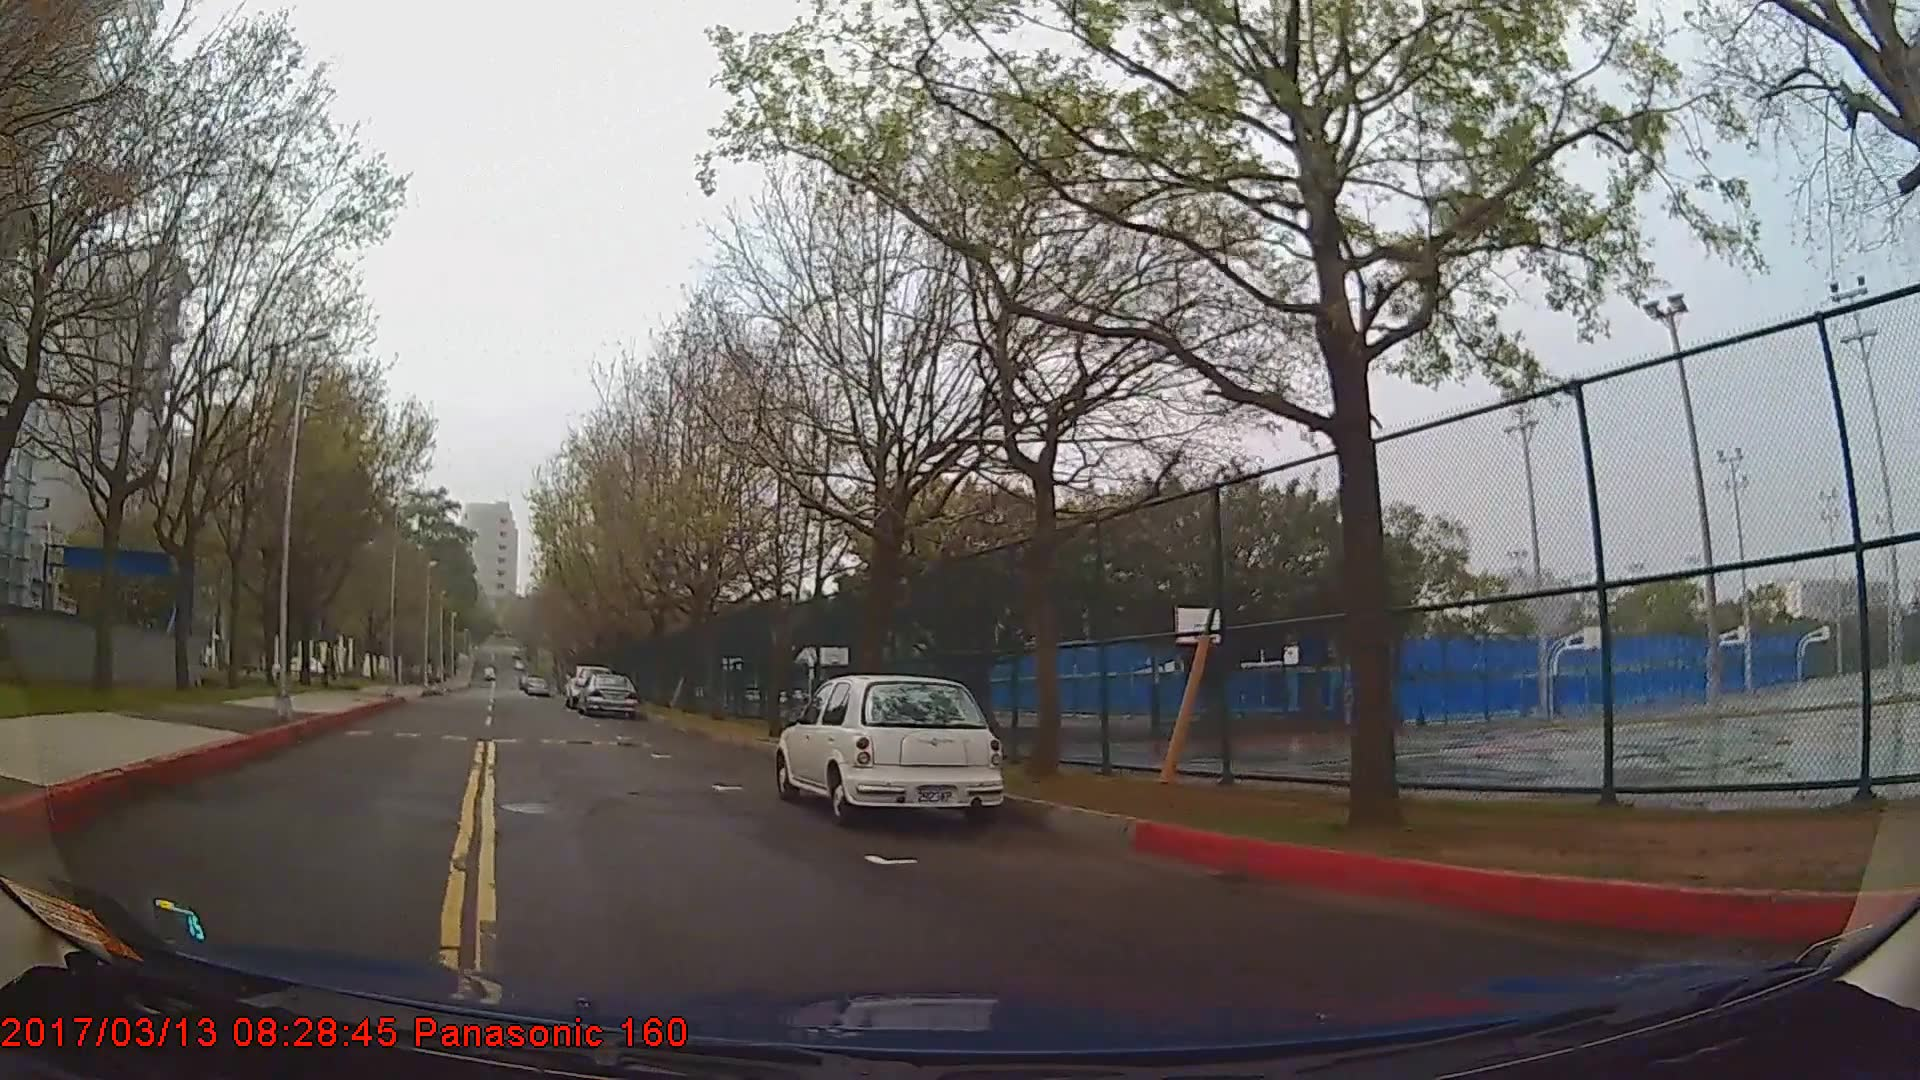vehicle: (771, 673, 1005, 823), (580, 670, 637, 715)
